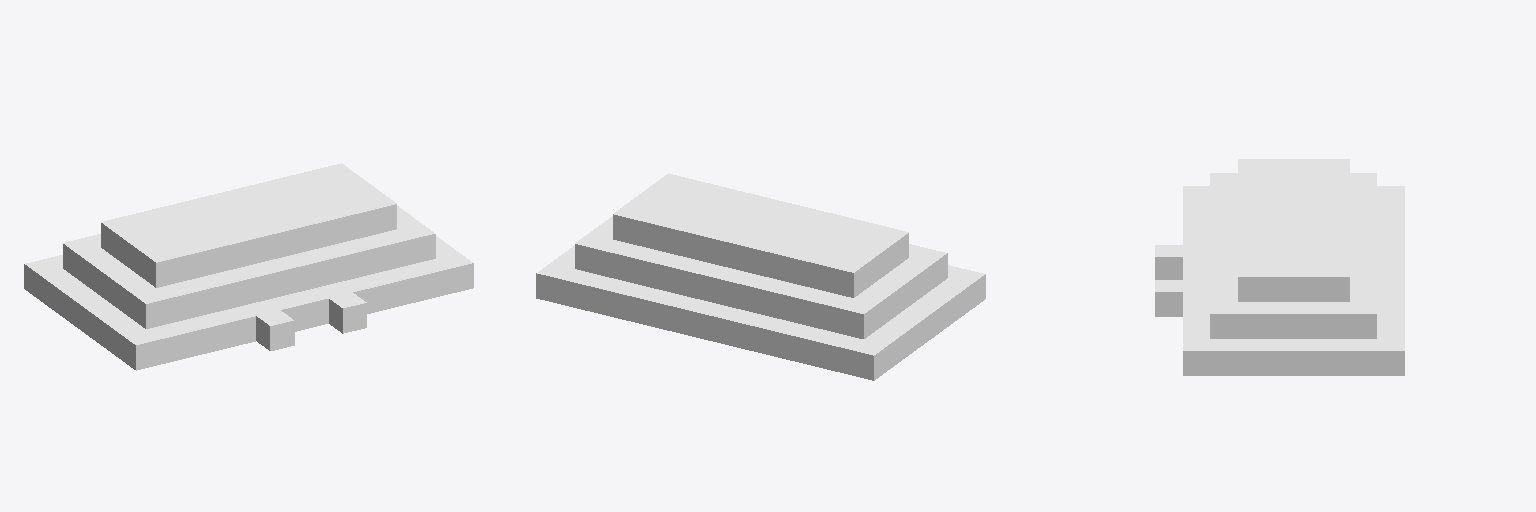
Rendered from chest_lid.obj.
3 renders of one model, left to right at view 1: azimuth 30°, elevation 25°; view 2: azimuth 150°, elevation 25°; view 3: azimuth 270°, elevation 25°, orthographic.
Parts seen in each view (by area): view 1: chest_lid; view 2: chest_lid; view 3: chest_lid.
Boxes of the visible parts, x1=… form: chest_lid: x1=24, y1=163, x2=473, y2=370; chest_lid: x1=536, y1=173, x2=985, y2=380; chest_lid: x1=1155, y1=159, x2=1404, y2=375.
Bounding box in the file's own units: 21.71 × 4.65 × 13.95.